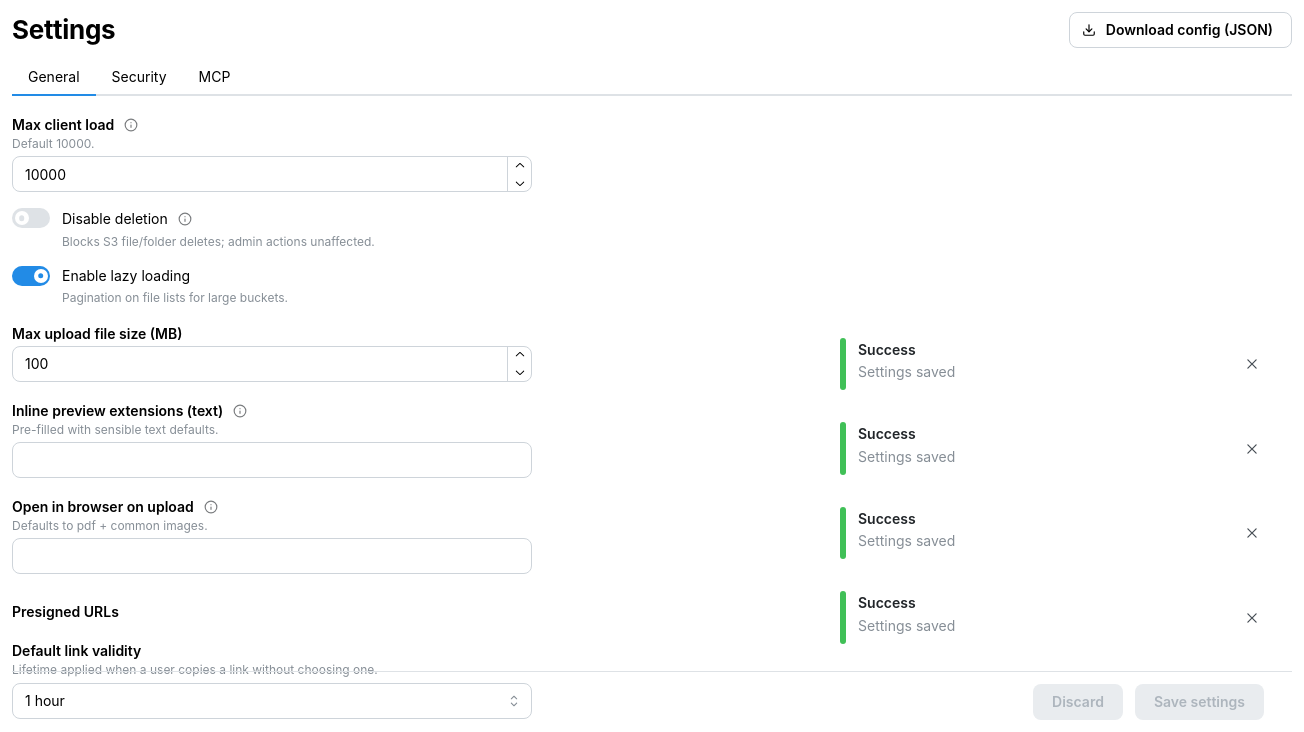
Test case: SettingsPage › clears dirty state after a successful save (Save button goes back to disabled)
expect the button "Save settings" is disabled: met, box [1135,684,1264,720]
Replace the text in the field labelled "Max client load" with "500" at (272, 174), box [12,156,532,192]
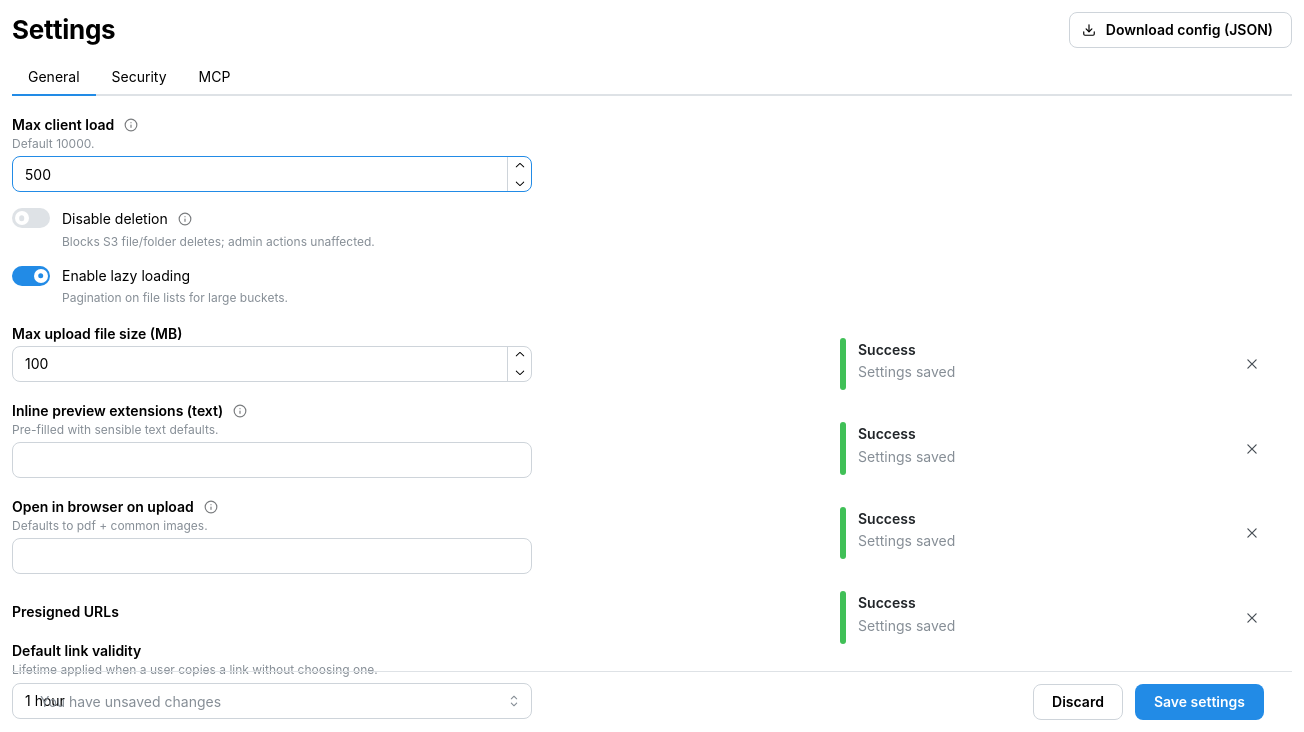
expect the button "Save settings" is enabled: met
Click the button "Save settings" at (1199, 702), box [1135,684,1264,720]
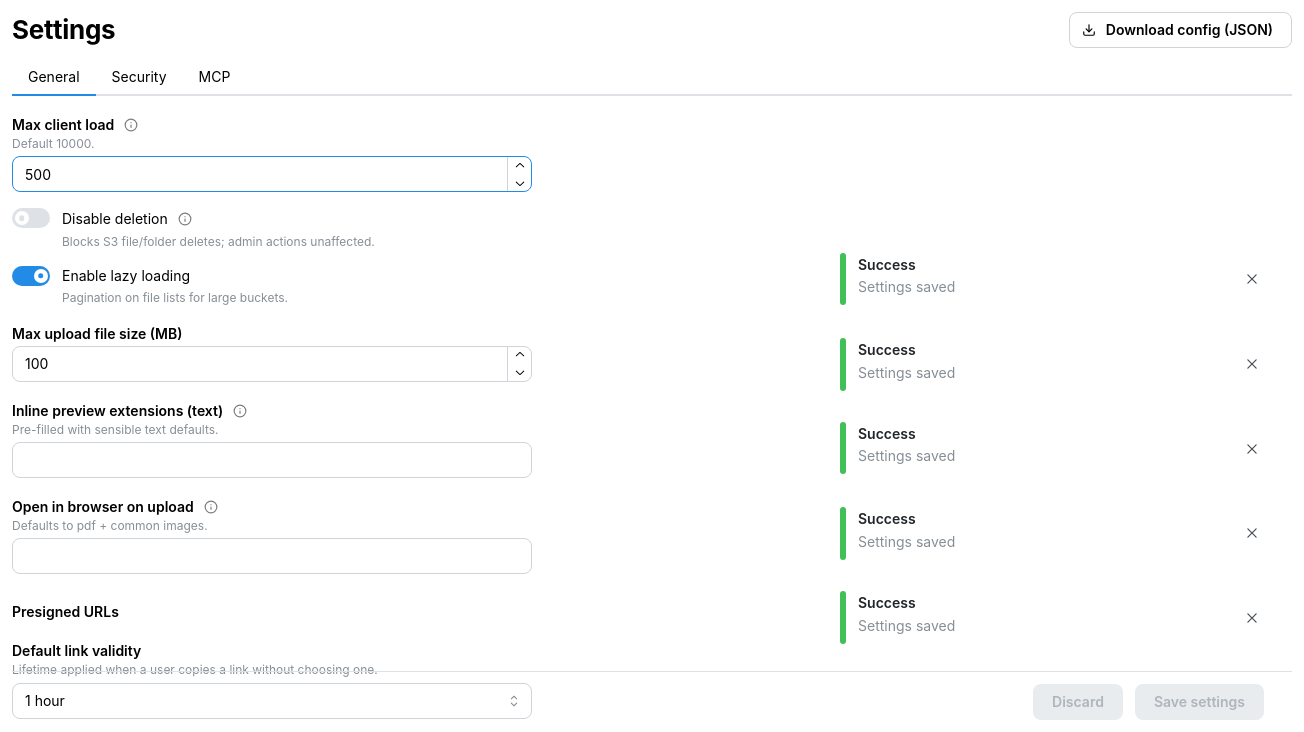
expect the button "Save settings" is disabled: met, box [1135,684,1264,720]
